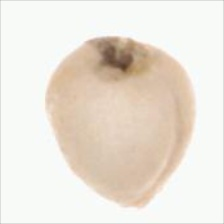L4: (46, 36, 195, 208)
